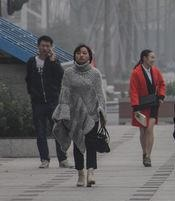person: (54, 43, 111, 187), (26, 34, 76, 169), (129, 49, 167, 168)
